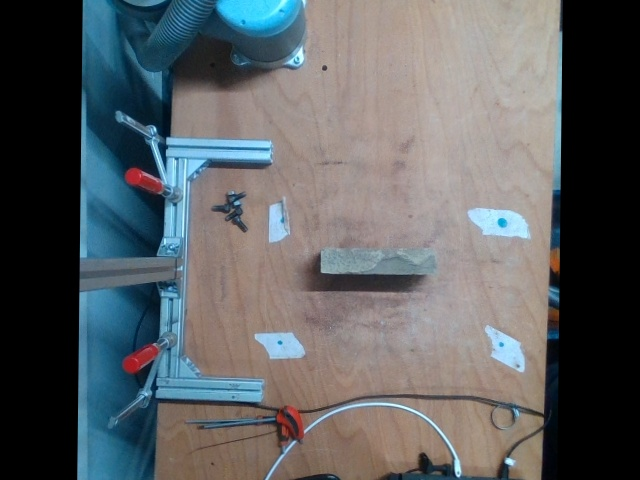brick-side: (321, 249, 436, 275)
